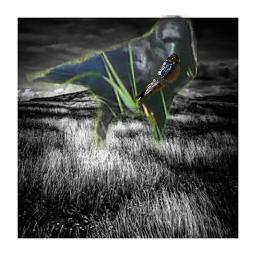Crow: (26, 15, 197, 150)
Swallow: (133, 53, 180, 113)
